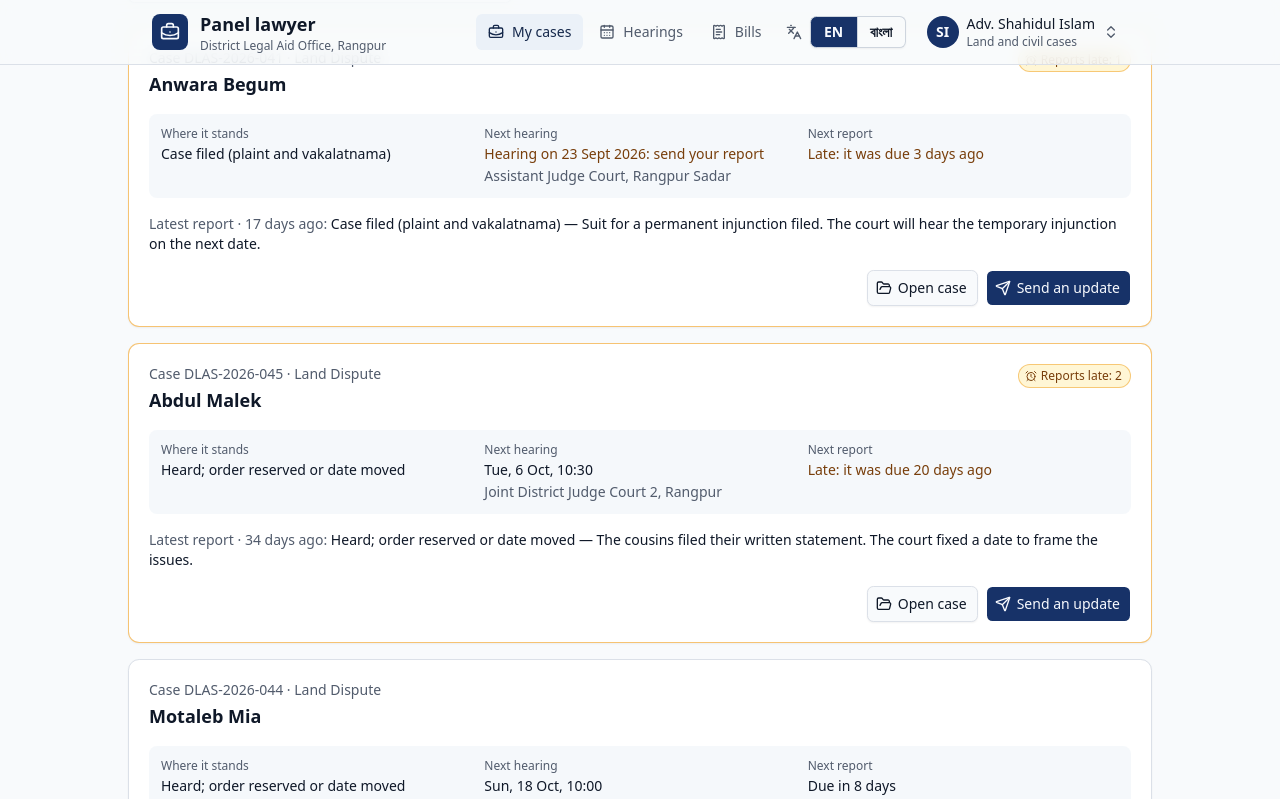
Test: the case page › shows the court progress, every report and how to contact the client
This screenshot has width=1280, height=799.
(page scrolled)
Click the link "Abdul Malek" at (205, 400), box [149,388,261,412]
(page scrolled)
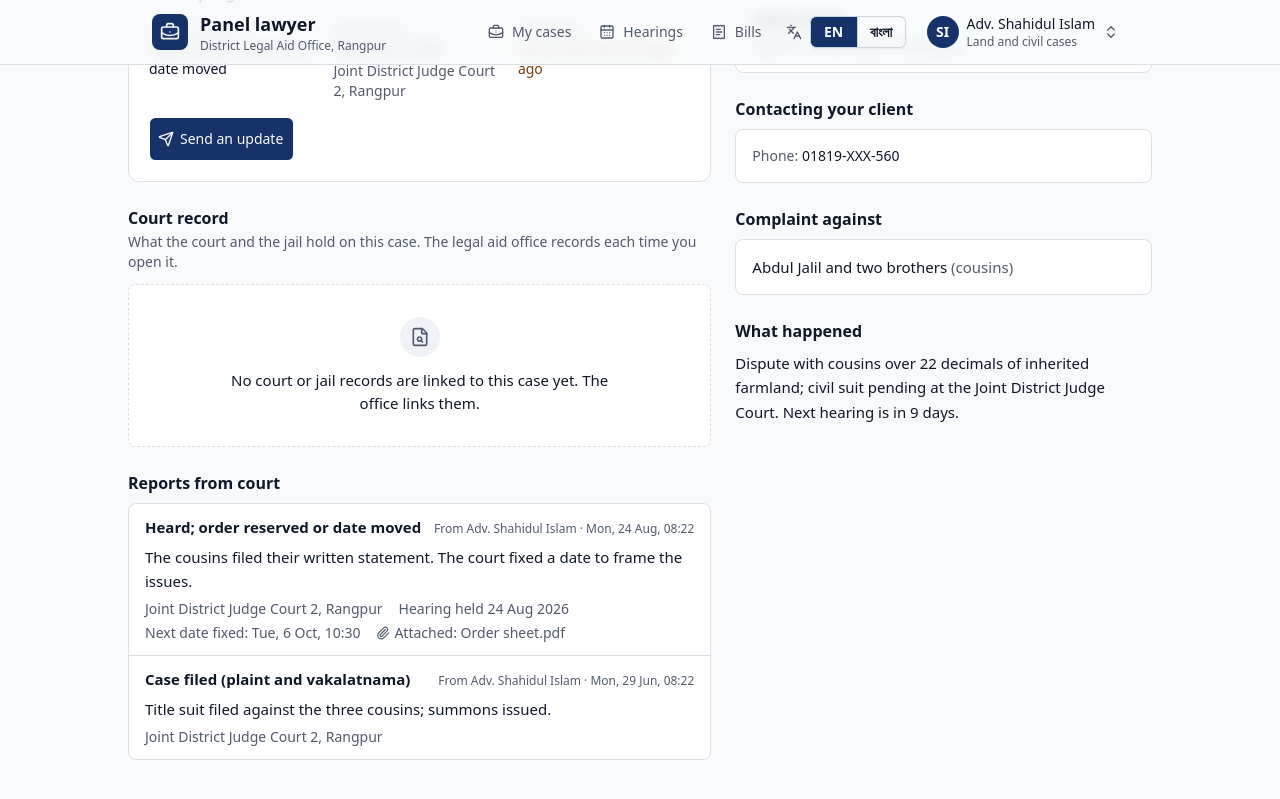
Check: the list item that starts with "Heard; order reserved or date moved" shows "The cousins filed their written statement.", box [145,546,682,591]
Check: the list item that starts with "Heard; order reserved or date moved" shows "Attached: Order sheet.pdf", box [394,623,565,642]
Check: the list item that starts with "Case filed (plaint and vakalatnama)" shows "Title suit filed", box [145,699,551,719]
